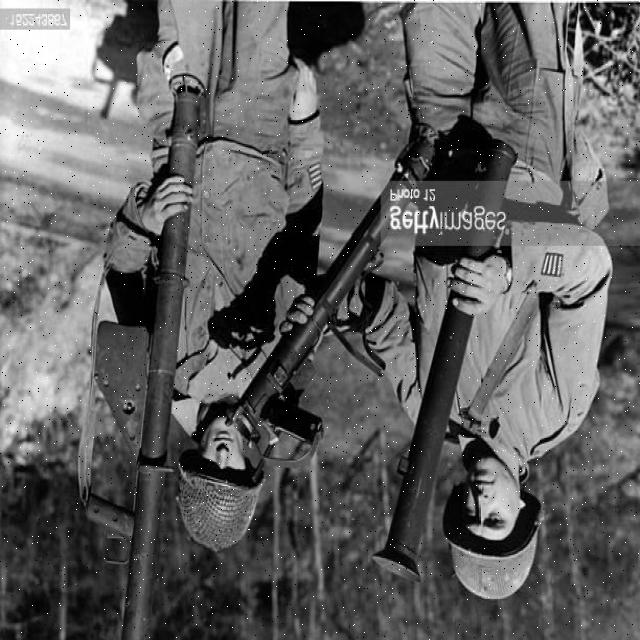bazooka: (74, 74, 211, 640)
